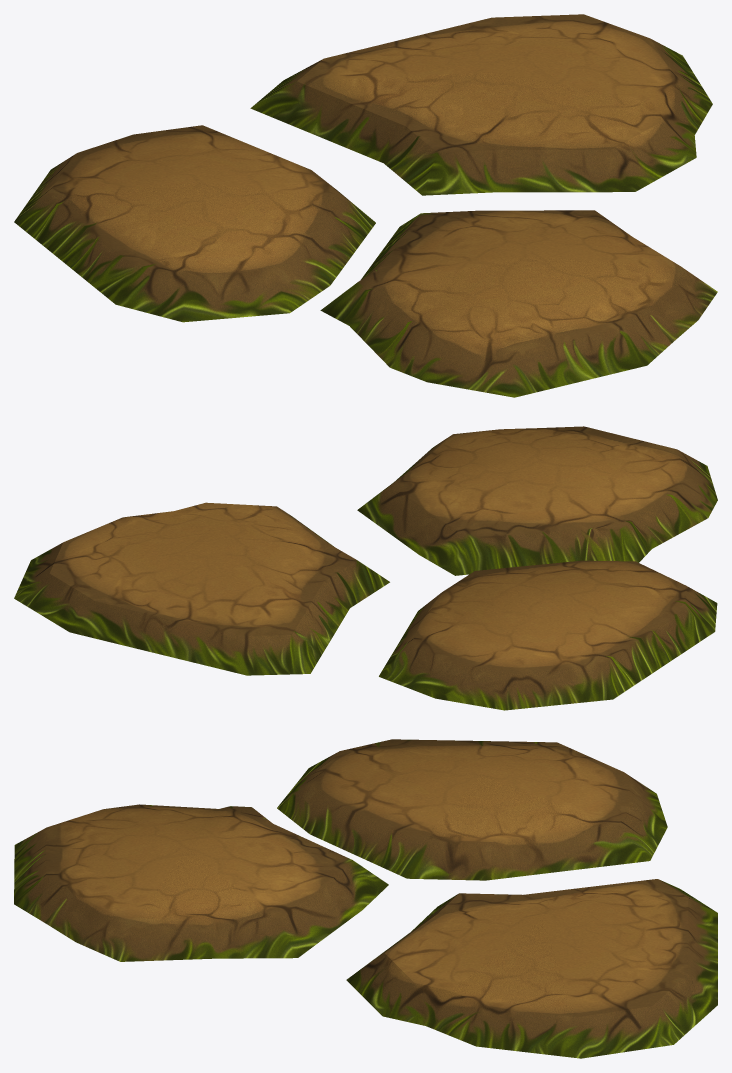
The model's file is SteppingStoneCluster3.fbx.
3 renders of one model, top to bottom at view 1: azimuth 30°, elevation 25°; view 2: azimuth 150°, elevation 25°; view 3: azimuth 270°, elevation 25°, orthographic. The views are drawn at different scales.
Visible parts, largest first — view 1: Mesh; view 2: Mesh; view 3: Mesh.
Boxes of the visible parts, x1,y1,x2,y2 form: Mesh: (14,14,717,397); Mesh: (14,426,717,710); Mesh: (14,739,717,1058).
Size of the model in its own units: 283 by 20.18 by 276.
